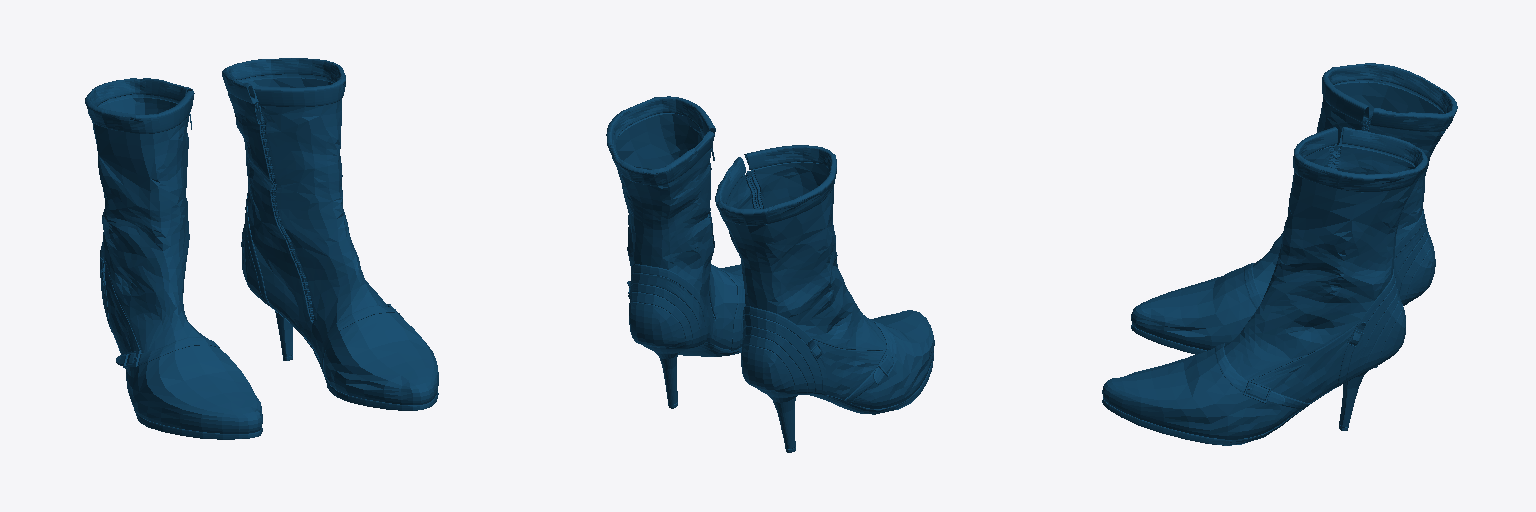
The model's file is gaotong4.obj.
3 views of the same model, side by side, from view 1: azimuth 30°, elevation 25°; view 2: azimuth 150°, elevation 25°; view 3: azimuth 270°, elevation 25° (orthographic).
Parts seen in each view (by area): view 1: file.001; view 2: file.001; view 3: file.001.
Part boxes in pixels (x1,y1,x2,y2): file.001: (85,58,438,439); file.001: (606,96,934,452); file.001: (1102,63,1457,445).
Size of the model in its own units: 3.4 by 3.58 by 3.98.